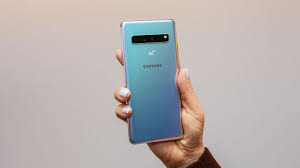samsung: (118, 15, 185, 145)
